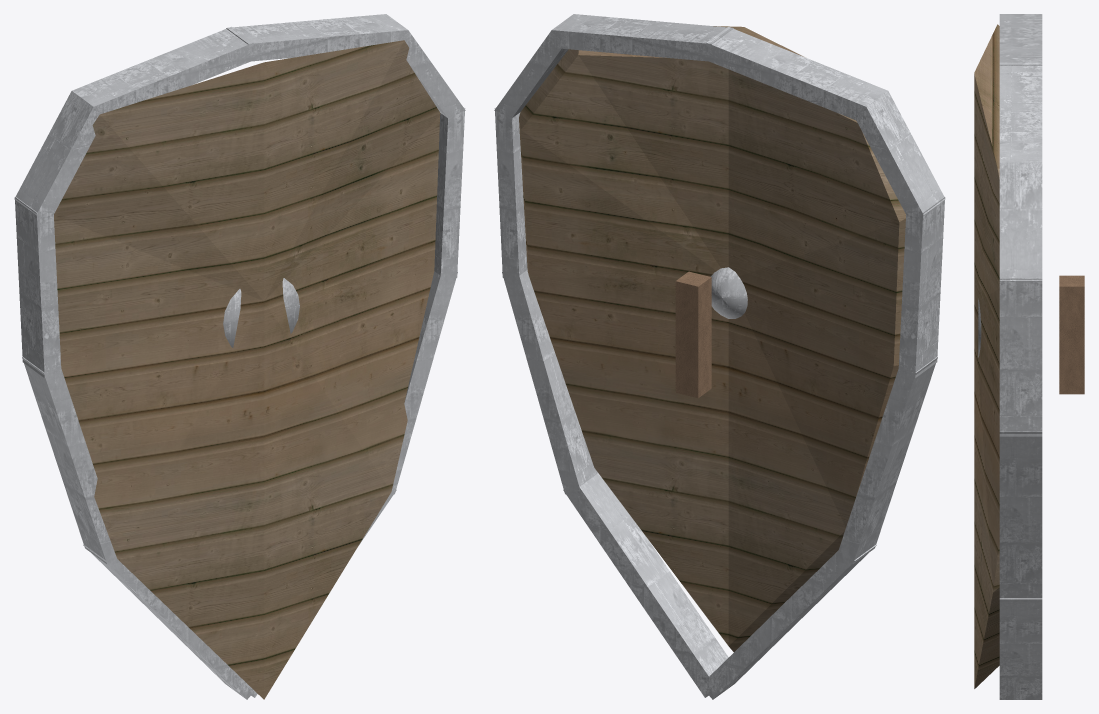
File: g_shield_kite.glb
3 renders of one model, left to right at view 1: azimuth 30°, elevation 25°; view 2: azimuth 150°, elevation 25°; view 3: azimuth 270°, elevation 25°, orthographic. The views are drawn at different scales.
Parts seen in each view (by area): view 1: g_shield_kite; view 2: g_shield_kite; view 3: g_shield_kite.
Part boxes in pixels (left/top/right/bottom): g_shield_kite: left=14, top=14, right=465, bottom=699; g_shield_kite: left=494, top=14, right=945, bottom=699; g_shield_kite: left=974, top=14, right=1084, bottom=699.
Bounding box in the file's own units: 0.5607 × 0.8179 × 0.1293.
Materials: 3 (3 with a texture image).
